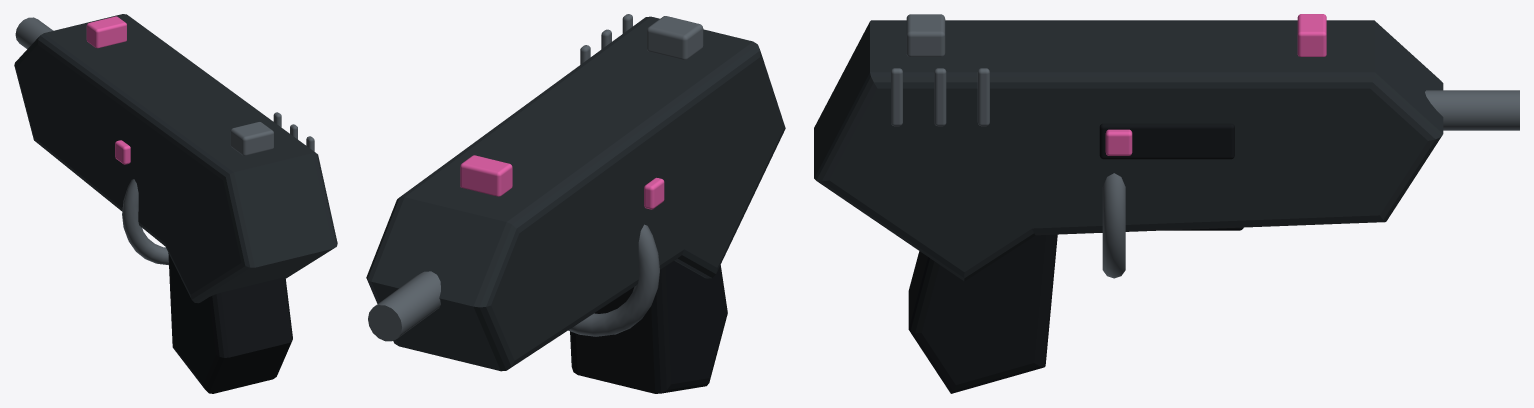
Rendered from pistol.glb.
The picture shows the model from 3 angles, left to right: view 1: azimuth 30°, elevation 25°; view 2: azimuth 150°, elevation 25°; view 3: azimuth 270°, elevation 25°; orthographic projection. The views are drawn at different scales.
Parts seen in each view (by area): view 1: pistol-weapon; view 2: pistol-weapon; view 3: pistol-weapon.
Boxes of the visible parts, box(x1,y1,x2,y2) form: pistol-weapon: box(14, 14, 337, 393); pistol-weapon: box(366, 14, 785, 393); pistol-weapon: box(814, 14, 1519, 393).
Bounding box in the file's own units: 0.385 × 0.8018 × 1.46.
